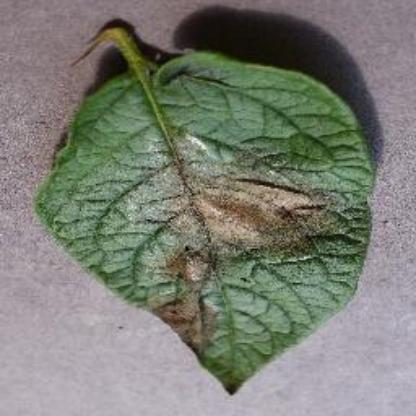Late-Blight: (30, 20, 382, 408)
